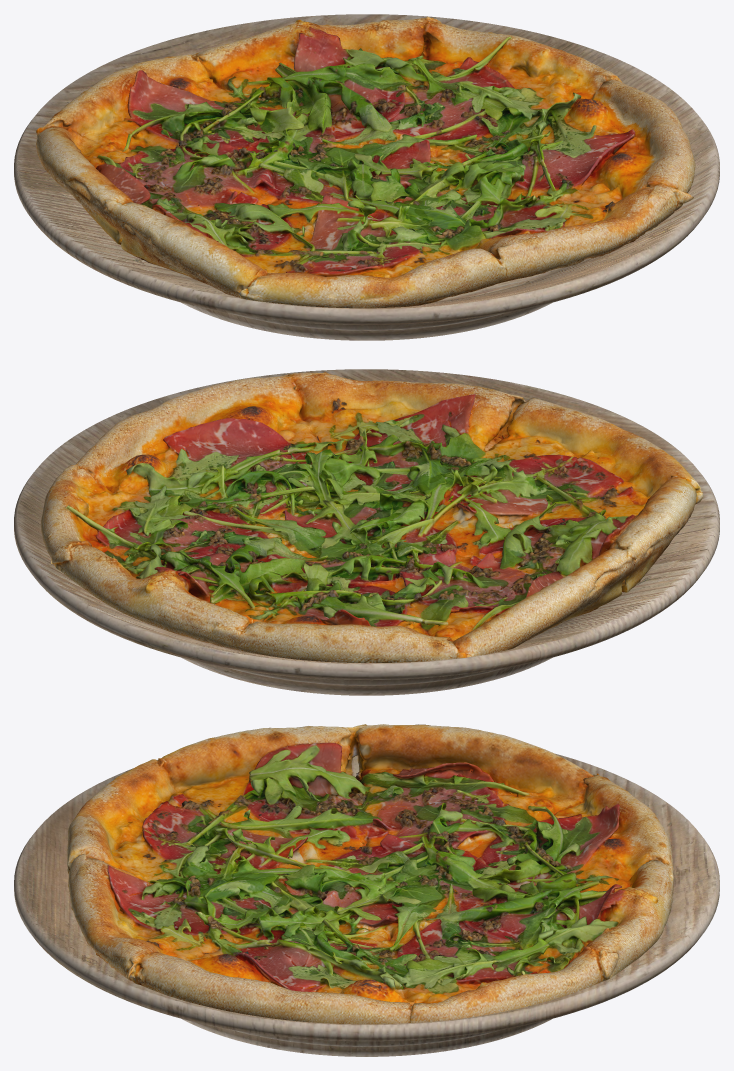
Rendered from pizza1.gltf.
The picture shows the model from 3 angles, top to bottom: view 1: azimuth 30°, elevation 25°; view 2: azimuth 150°, elevation 25°; view 3: azimuth 270°, elevation 25°; orthographic projection.
Visible parts, largest first — view 1: pizza, Tarelka001; view 2: pizza, Tarelka001; view 3: pizza, Tarelka001.
Boxes of the visible parts, bbox=[...] form: pizza: bbox=[36, 16, 695, 308]; Tarelka001: bbox=[14, 14, 719, 340]; pizza: bbox=[41, 372, 703, 662]; Tarelka001: bbox=[14, 369, 719, 695]; pizza: bbox=[67, 724, 673, 1024]; Tarelka001: bbox=[14, 753, 719, 1056].
Size of the model in its own units: 4.93 by 0.8405 by 4.93.
Materials: 2 (2 with a texture image).
